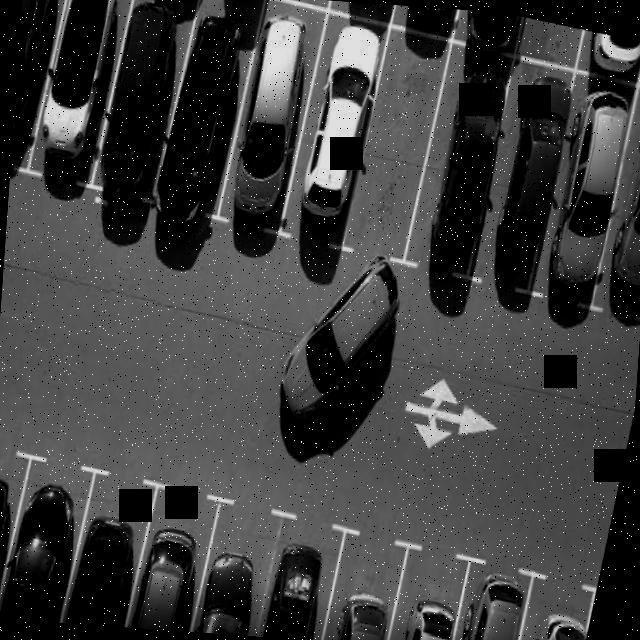space-empty: (343, 29, 453, 268), (517, 17, 581, 71), (265, 0, 336, 6)
space-occupied: (281, 9, 394, 255), (404, 48, 519, 282), (469, 62, 579, 297), (528, 69, 640, 298), (218, 0, 328, 224), (153, 0, 264, 208), (94, 0, 197, 199), (37, 0, 138, 171), (58, 466, 162, 629), (0, 454, 99, 624), (123, 484, 227, 634), (183, 497, 290, 638), (586, 89, 640, 322), (246, 516, 346, 640), (10, 0, 77, 175), (306, 528, 408, 640), (372, 538, 470, 640), (436, 560, 538, 640), (0, 434, 40, 620), (500, 573, 596, 640), (570, 28, 640, 81), (452, 9, 523, 54), (389, 4, 460, 45), (329, 0, 394, 22)
